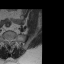CCS_stenosis: (8, 38, 10, 45)
LFS_normal: (11, 37, 13, 42)
LLS_normal: (10, 38, 12, 43)
RFS_stenosis: (5, 36, 7, 42)
RLS_normal: (7, 37, 8, 44)
